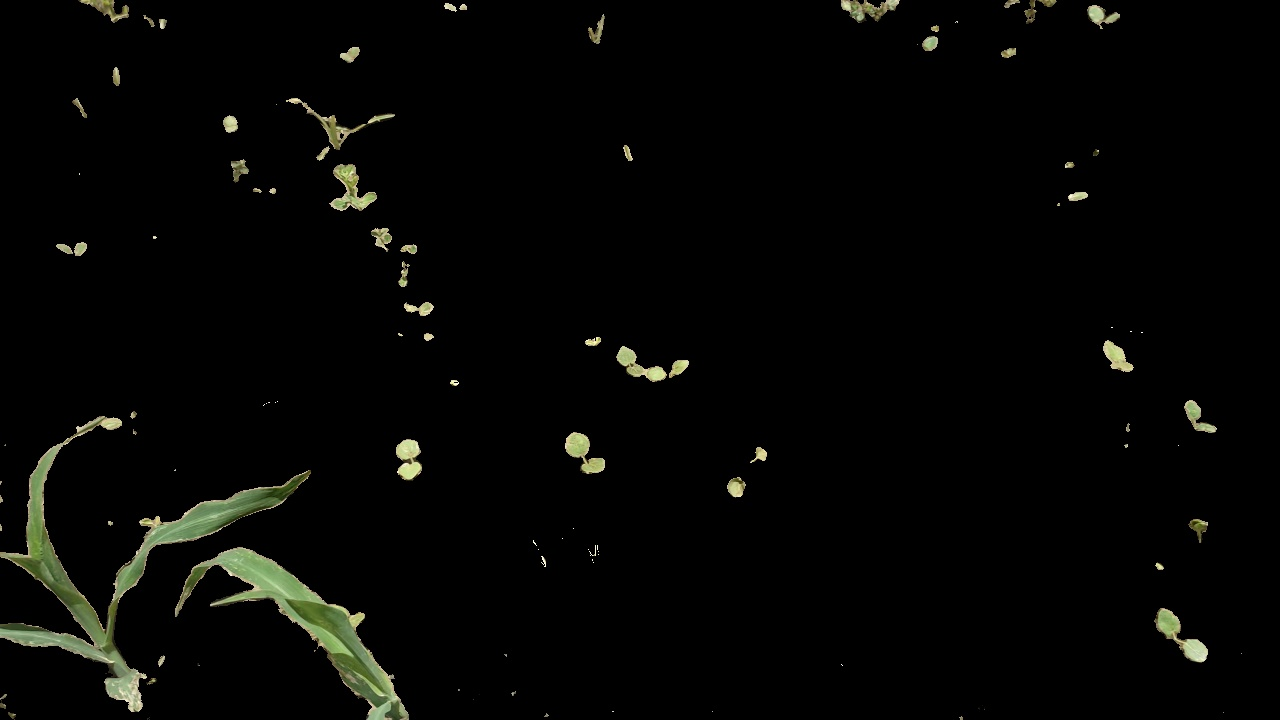crop: (1, 400, 159, 720), (167, 539, 417, 720)
weed: (1147, 601, 1219, 677), (609, 343, 695, 384), (321, 164, 385, 216), (1090, 337, 1147, 383), (1183, 389, 1221, 446), (560, 432, 610, 472), (388, 437, 432, 480), (364, 221, 403, 249), (1085, 7, 1120, 29), (55, 239, 92, 259), (399, 299, 439, 317)
